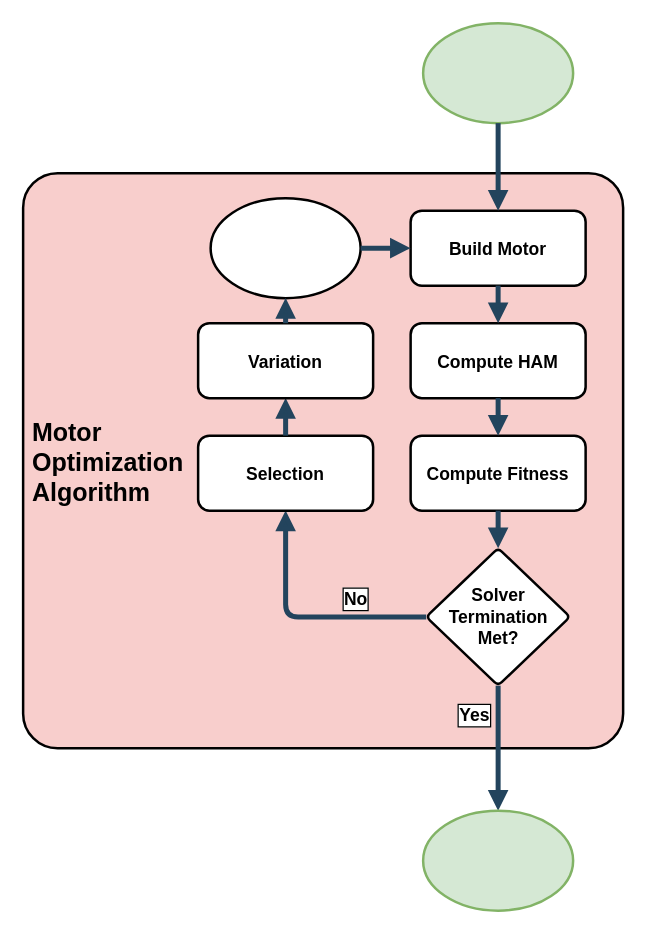
Image size: 645x933. Some labels were removed from this diagram. Here are the shapes that lost their labels. From the top down, the centre of each, then its label:
the point at 497,72: Initial Slot-Pole Input
the point at 285,247: New Slot-Pole Input
the point at 497,860: Final Motor Design
